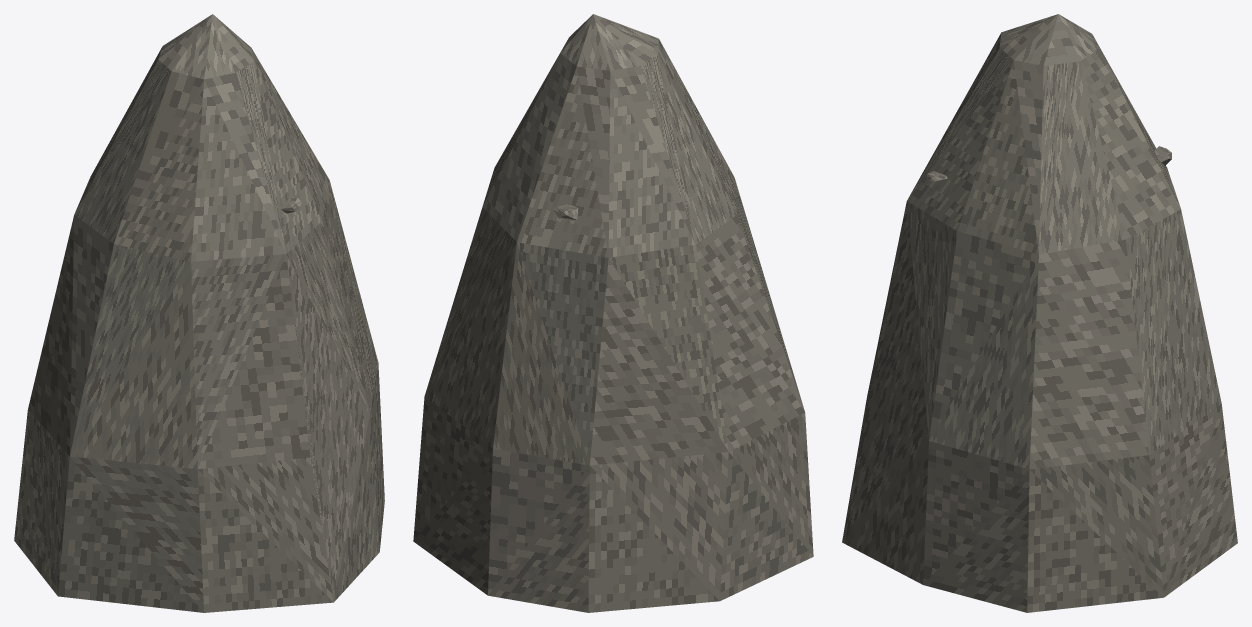
File: f_gravel_mound_mid.glb
3 views of the same model, side by side, from view 1: azimuth 30°, elevation 25°; view 2: azimuth 150°, elevation 25°; view 3: azimuth 270°, elevation 25° (orthographic).
Visible parts, largest first — view 1: block_heaped-gravel; view 2: block_heaped-gravel; view 3: block_heaped-gravel.
Part boxes in pixels (bbox=[...]): block_heaped-gravel: bbox=[14, 14, 384, 612]; block_heaped-gravel: bbox=[413, 14, 813, 612]; block_heaped-gravel: bbox=[842, 14, 1237, 612].
Bounding box in the file's own units: 0.9148 × 1.31 × 0.9015.
1 material, 1 textured.
